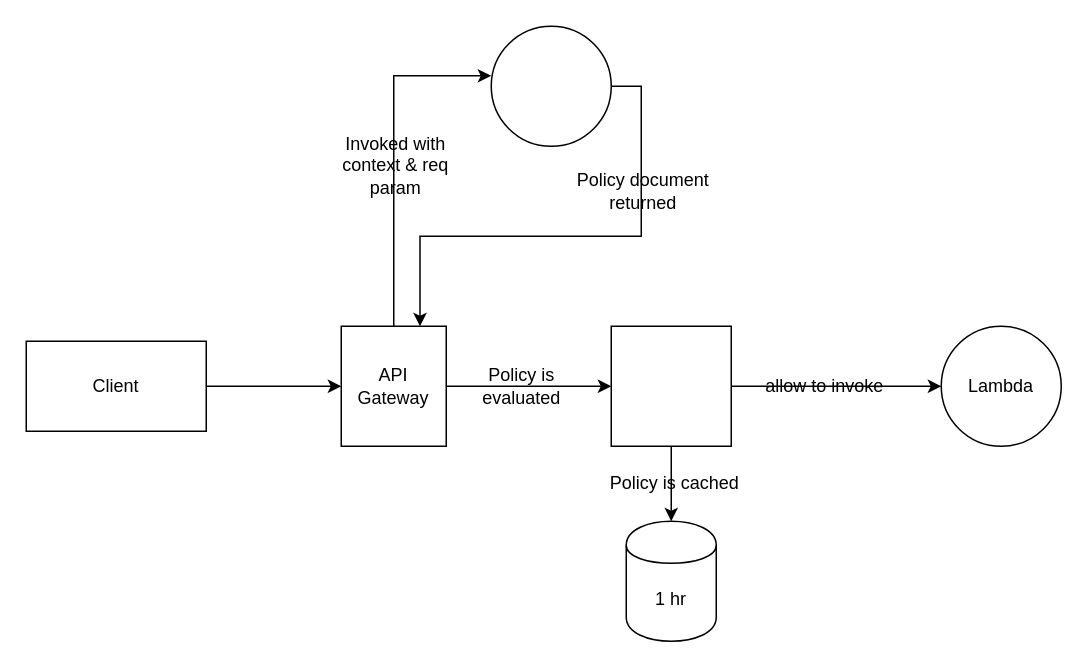
Image size: 1088x668. Some labels were removed from this diagram. Each missing label, with the box of its shape:
CHECK: (610, 325, 731, 446)
Lambda authorizer: (490, 25, 611, 146)
